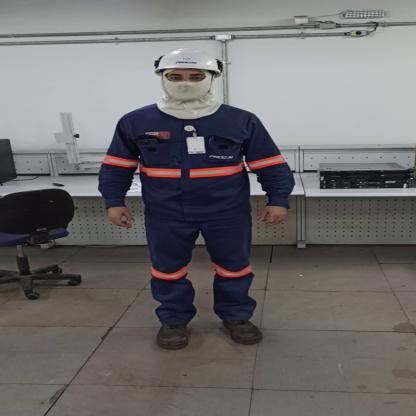Balaclava: (152, 69, 229, 121)
Capacete: (147, 48, 232, 76)
